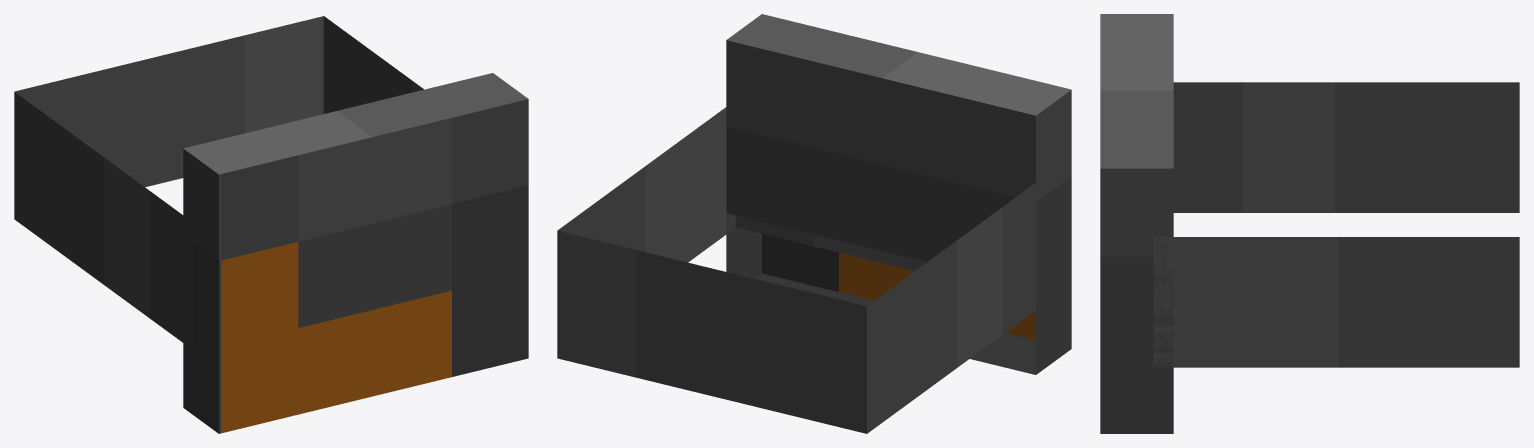
Rendered from R_Leg_GrimArmor_Spooky2.glb.
3 renders of one model, left to right at view 1: azimuth 30°, elevation 25°; view 2: azimuth 150°, elevation 25°; view 3: azimuth 270°, elevation 25°, orthographic. The views are drawn at different scales.
Visible parts, largest first — view 1: R_Leg_GrimArmor_Spooky2.001; view 2: R_Leg_GrimArmor_Spooky2.001; view 3: R_Leg_GrimArmor_Spooky2.001.
Part boxes in pixels (left/top/right/bottom): R_Leg_GrimArmor_Spooky2.001: left=14, top=16, right=528, bottom=433; R_Leg_GrimArmor_Spooky2.001: left=557, top=14, right=1071, bottom=433; R_Leg_GrimArmor_Spooky2.001: left=1100, top=14, right=1519, bottom=433.
Size of the model in its own units: 31.25 by 25 by 35.78.
Materials: 1 (1 with a texture image).
